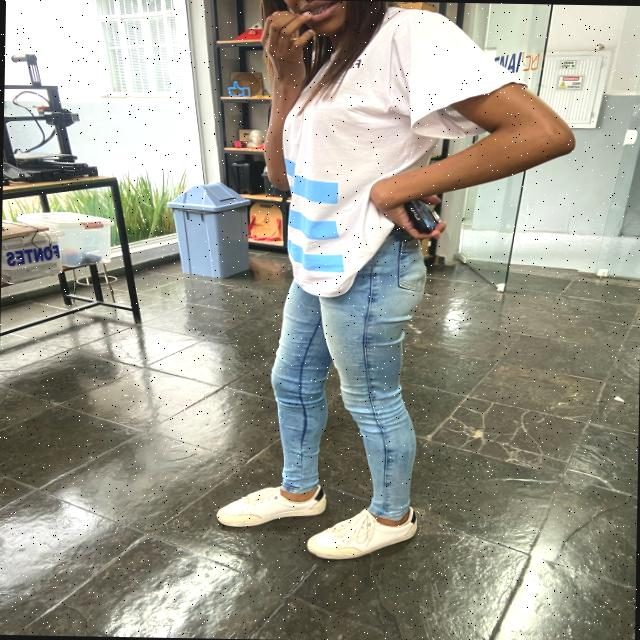SEM BOTA: (303, 504, 416, 562), (204, 484, 330, 531)
SEM LUVA: (367, 180, 454, 243), (252, 10, 318, 56)
